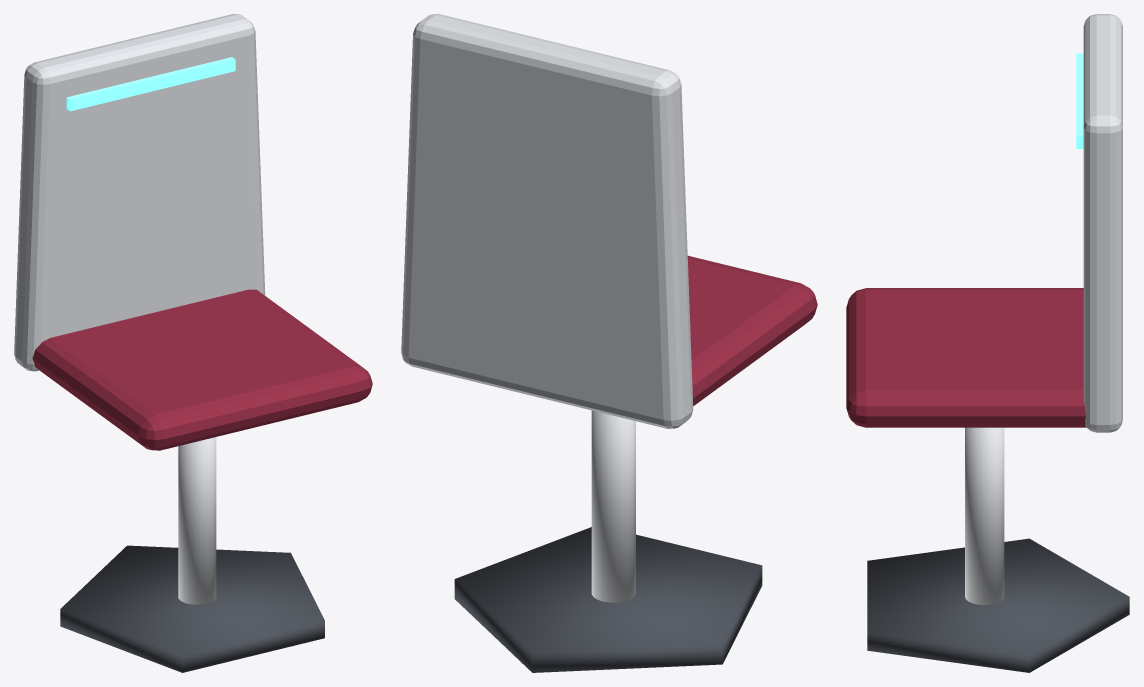
File: dining_chair_shell.glb
3 renders of one model, left to right at view 1: azimuth 30°, elevation 25°; view 2: azimuth 150°, elevation 25°; view 3: azimuth 270°, elevation 25°, orthographic. The views are drawn at different scales.
Visible parts, largest first — view 1: GD_dining_chair_shell__m2, GD_dining_chair_shell__m3, GD_dining_chair_shell__m1, GD_dining_chair_shell__m0, GD_dining_chair_shell__m4; view 2: GD_dining_chair_shell__m2, GD_dining_chair_shell__m1, GD_dining_chair_shell__m3, GD_dining_chair_shell__m0; view 3: GD_dining_chair_shell__m3, GD_dining_chair_shell__m1, GD_dining_chair_shell__m2, GD_dining_chair_shell__m0, GD_dining_chair_shell__m4.
Boxes of the visible parts, <box> form: GD_dining_chair_shell__m2: <box>14,14,265,371</box>; GD_dining_chair_shell__m3: <box>32,289,372,450</box>; GD_dining_chair_shell__m1: <box>60,545,324,672</box>; GD_dining_chair_shell__m0: <box>178,437,216,604</box>; GD_dining_chair_shell__m4: <box>66,57,235,111</box>; GD_dining_chair_shell__m2: <box>401,14,693,428</box>; GD_dining_chair_shell__m1: <box>454,527,762,672</box>; GD_dining_chair_shell__m3: <box>687,255,817,405</box>; GD_dining_chair_shell__m0: <box>591,410,635,602</box>; GD_dining_chair_shell__m3: <box>846,288,1086,427</box>; GD_dining_chair_shell__m1: <box>867,538,1129,672</box>; GD_dining_chair_shell__m2: <box>1083,14,1122,432</box>; GD_dining_chair_shell__m0: <box>965,427,1004,604</box>; GD_dining_chair_shell__m4: <box>1076,53,1083,148</box>.
Size of the model in its own units: 0.4385 by 0.92 by 0.43.
